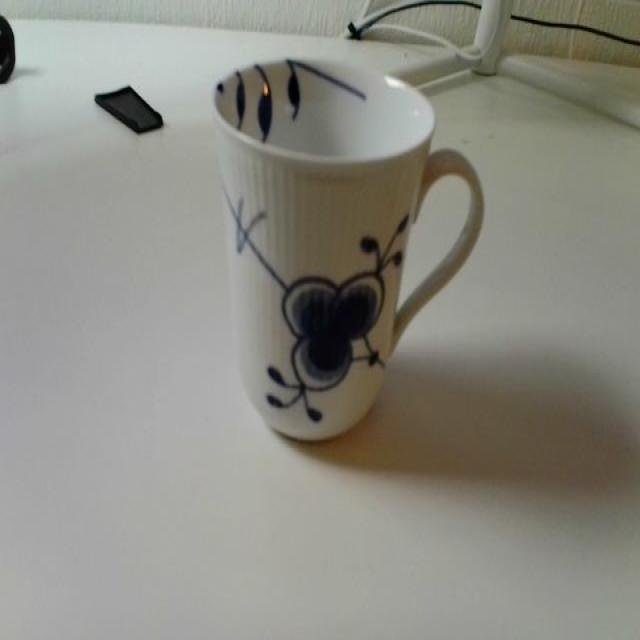cup: (191, 40, 484, 485)
